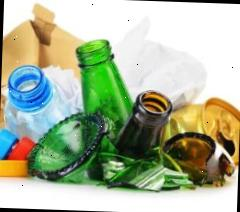glass: (69, 36, 142, 151), (21, 111, 126, 188), (110, 89, 172, 169)
